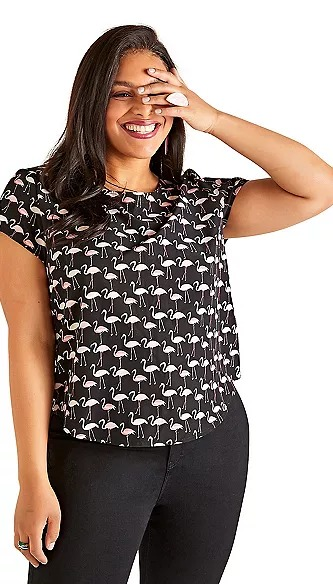C_short blouse: (5, 168, 257, 445)
